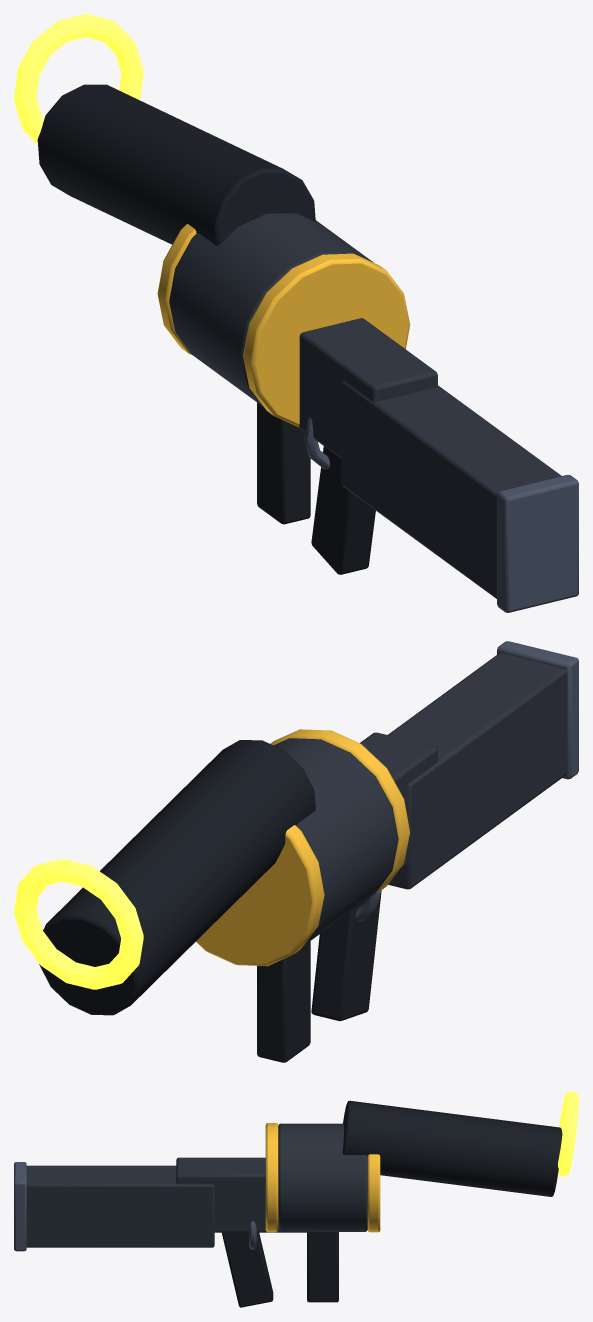
File: wpn_8_lobber.glb
3 views of the same model, one above another, from view 1: azimuth 30°, elevation 25°; view 2: azimuth 150°, elevation 25°; view 3: azimuth 270°, elevation 25° (orthographic). The views are drawn at different scales.
Parts seen in each view (by area): view 1: wpn_8_lobber; view 2: wpn_8_lobber; view 3: wpn_8_lobber.
Part boxes in pixels (box(x1,y1,x2,y2)): wpn_8_lobber: box(14, 14, 578, 612); wpn_8_lobber: box(14, 641, 578, 1062); wpn_8_lobber: box(14, 1091, 578, 1307).
Size of the model in its own units: 0.172 by 0.3607 by 0.8867.
